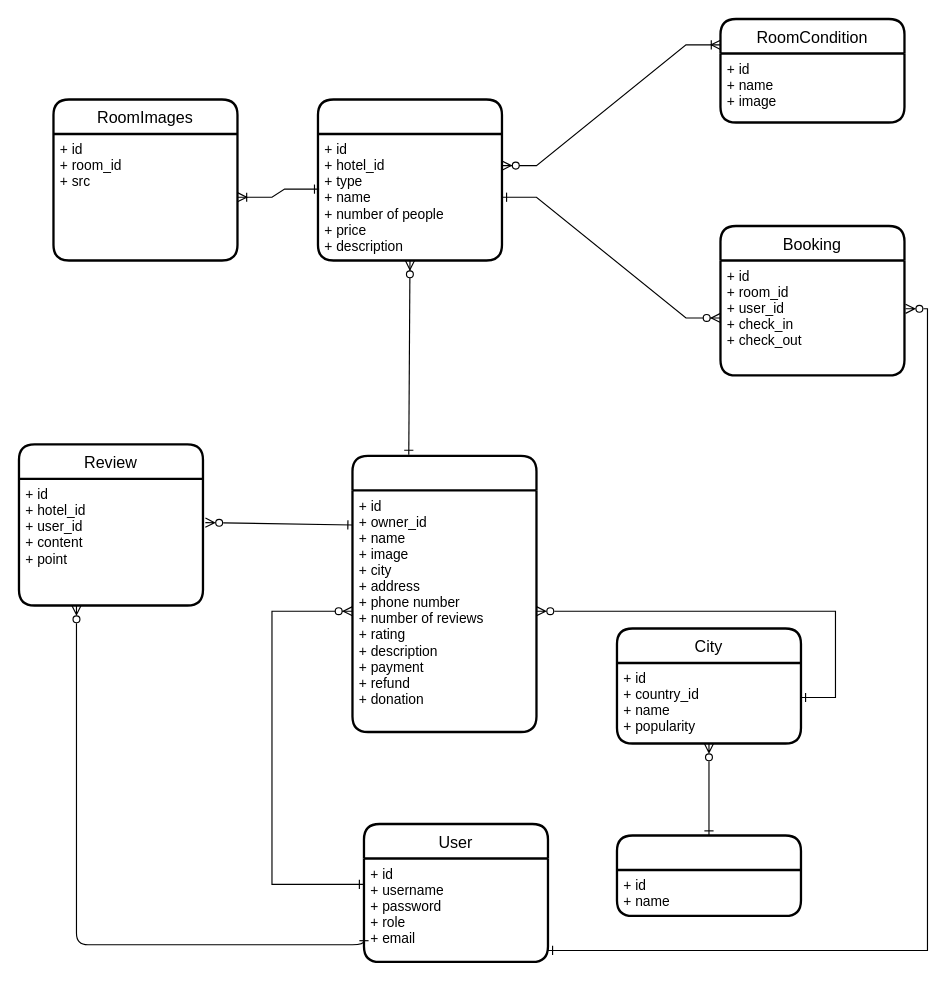
The diagram is 946 pixels wide and 981 high, and some of its shapes have lost their labels. Each missing label, with the box of its shape:
Country: (615, 834, 802, 917)
Hotel: (351, 454, 537, 733)
Room: (316, 98, 503, 261)
